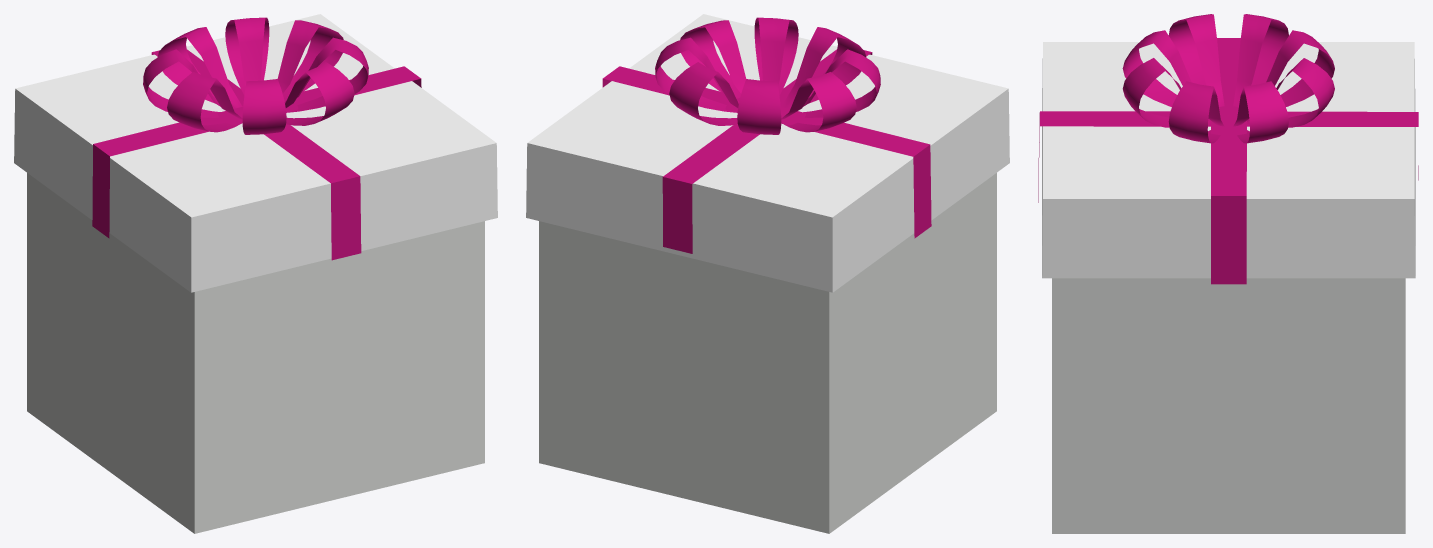
File: present.fbx
3 renders of one model, left to right at view 1: azimuth 30°, elevation 25°; view 2: azimuth 150°, elevation 25°; view 3: azimuth 270°, elevation 25°, orthographic. The views are drawn at different scales.
Parts seen in each view (by area): view 1: ox Outside, Lid, Box, ribbon 1, ribbon 2; view 2: ox Outside, Lid, Box, ribbon 2, ribbon 1; view 3: ox Outside, Lid, Box, ribbon 2, ribbon 1.
Boxes of the visible parts, x1,y1,x2,y2 form: ox Outside: [27, 173, 484, 533]; Lid: [14, 14, 497, 292]; Box: [143, 17, 368, 134]; ribbon 1: [151, 49, 361, 260]; ribbon 2: [92, 66, 421, 238]; ox Outside: [539, 173, 996, 533]; Lid: [526, 14, 1009, 292]; Box: [655, 17, 880, 134]; ribbon 2: [602, 66, 931, 238]; ribbon 1: [662, 49, 872, 253]; ox Outside: [1052, 278, 1405, 533]; Lid: [1042, 42, 1415, 278]; Box: [1122, 14, 1334, 143]; ribbon 2: [1211, 38, 1246, 284]; ribbon 1: [1038, 111, 1418, 202].
Size of the model in its own units: 1.08 by 1.28 by 1.08.
